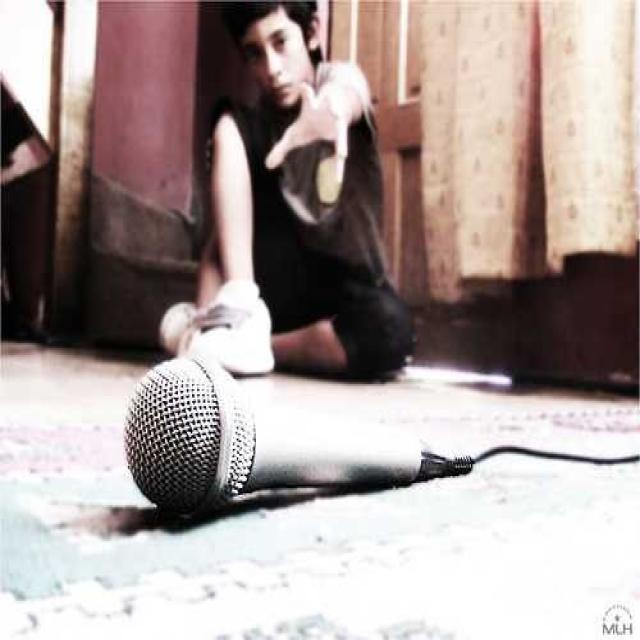microphone: (121, 352, 478, 541)
